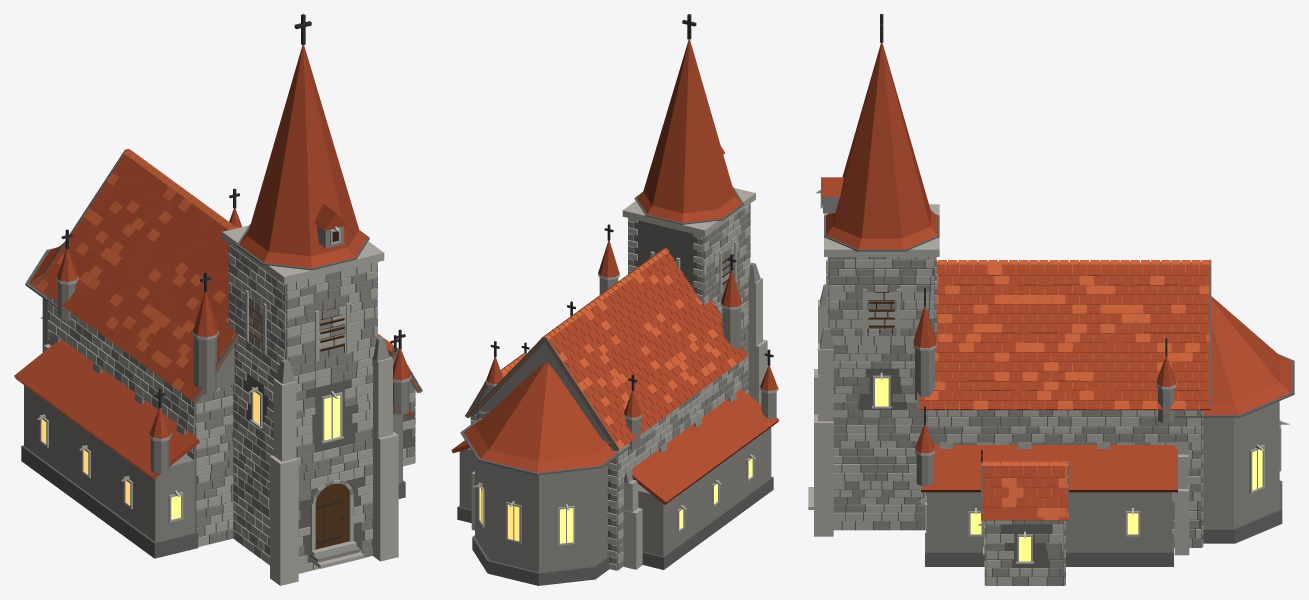
File: Landmark_Church.fbx
The picture shows the model from 3 angles, left to right: view 1: azimuth 30°, elevation 25°; view 2: azimuth 150°, elevation 25°; view 3: azimuth 270°, elevation 25°; orthographic projection. The views are drawn at different scales.
Parts seen in each view (by area): view 1: Landmark_Church_LOD0; view 2: Landmark_Church_LOD0; view 3: Landmark_Church_LOD0.
Boxes of the visible parts, <box> form: Landmark_Church_LOD0: <box>14,14,422,585</box>; Landmark_Church_LOD0: <box>451,14,779,585</box>; Landmark_Church_LOD0: <box>808,14,1294,585</box>.
Size of what is drawn, in the model's own units: 16.85 by 27.84 by 24.78.
